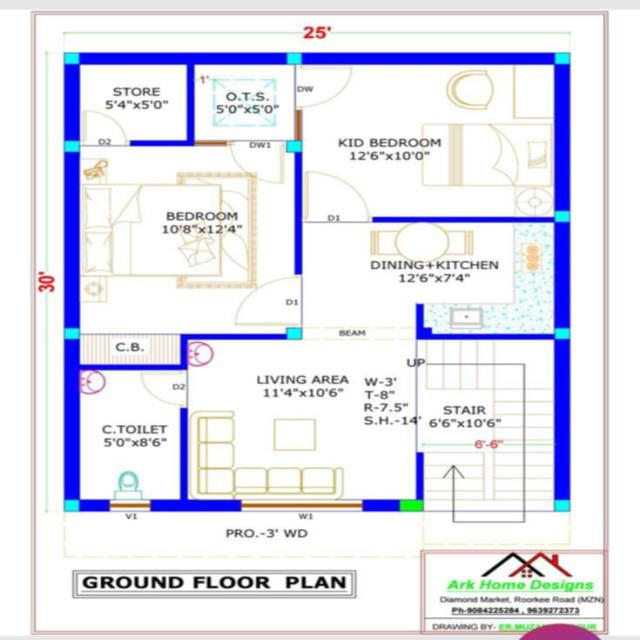column: (280, 48, 310, 70), (282, 135, 312, 157), (548, 47, 577, 69), (56, 496, 86, 516), (58, 48, 87, 68), (57, 136, 86, 156), (399, 494, 428, 514), (280, 323, 309, 342), (549, 207, 577, 226), (548, 324, 575, 343), (56, 326, 84, 344), (549, 496, 572, 514)
